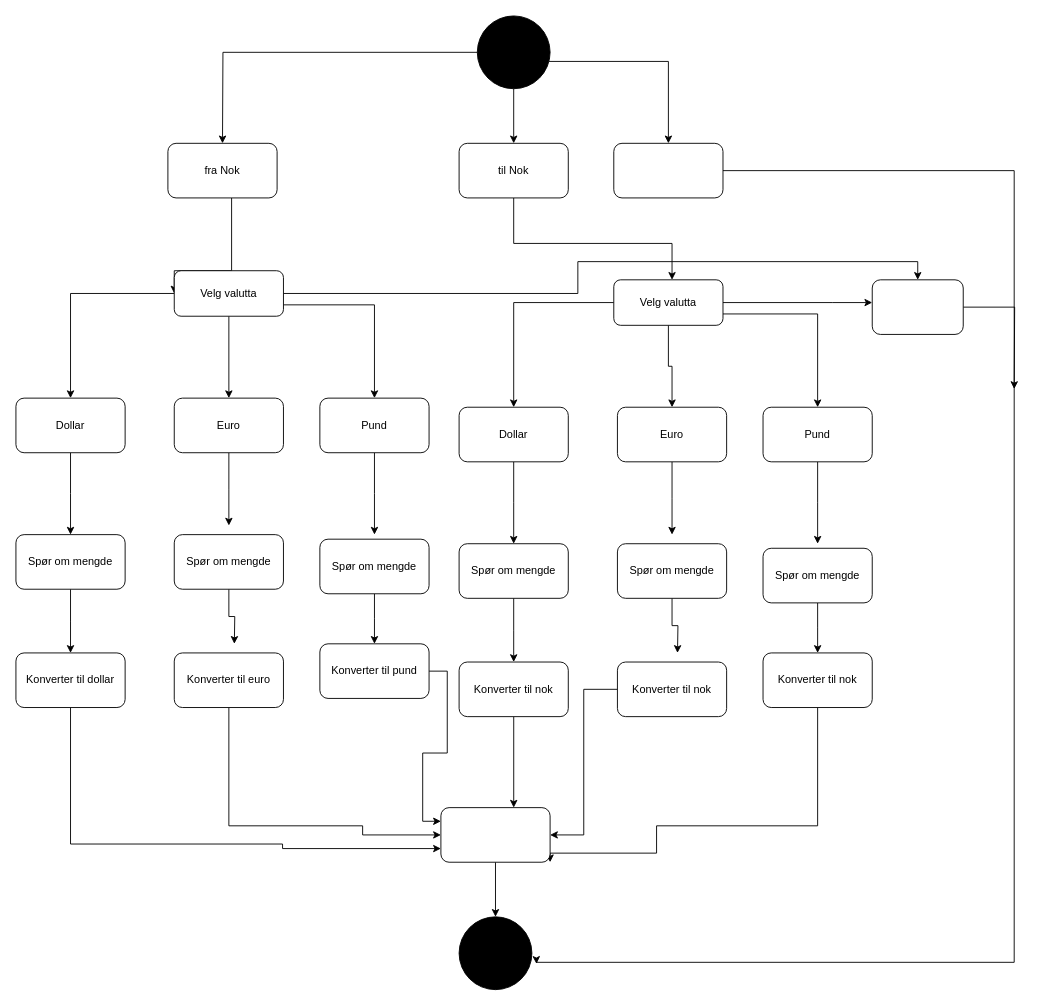
Some shapes in this 1038 by 1006 pixel diagram are drawn without their labels. Here are the shapes that lost their labels. From the top down, the box of each, then its label:
(613, 142, 723, 198): Avslutte
(871, 279, 963, 334): Avbryt
(440, 807, 550, 862): Print resultat
